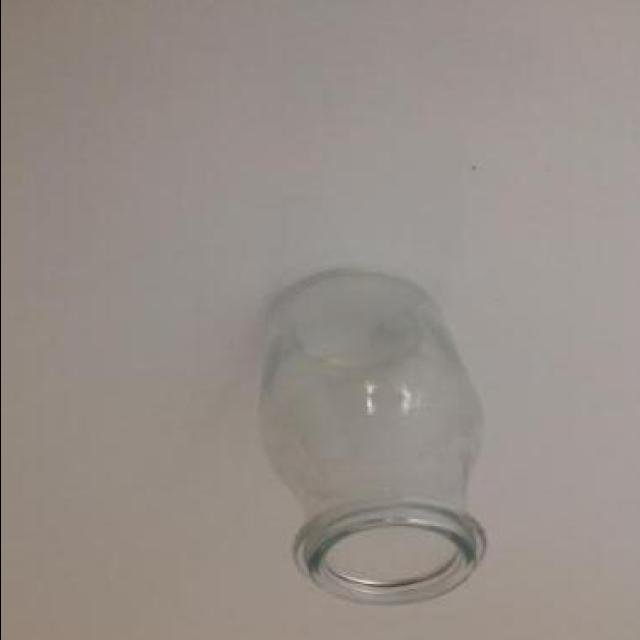kaca: (262, 269, 488, 606)
